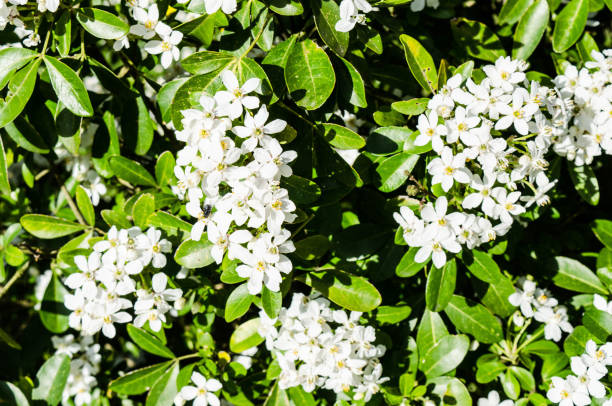flower: (231, 102, 289, 157), (172, 111, 230, 161), (198, 215, 256, 264), (227, 249, 289, 293), (194, 142, 252, 189), (208, 66, 262, 114), (417, 195, 468, 243), (405, 228, 460, 271), (245, 186, 301, 228), (246, 139, 301, 181), (100, 247, 148, 295), (495, 92, 541, 139), (131, 276, 187, 313), (463, 172, 507, 217), (85, 299, 132, 341), (179, 367, 229, 406), (427, 146, 471, 190), (146, 25, 190, 69), (59, 249, 102, 294), (131, 227, 176, 270), (464, 127, 506, 173), (182, 202, 227, 243), (137, 273, 183, 313), (58, 288, 98, 333), (409, 108, 449, 153), (478, 57, 529, 91), (535, 302, 578, 340), (576, 71, 612, 115), (577, 117, 611, 163), (507, 272, 541, 318), (91, 222, 130, 262), (217, 184, 255, 225), (296, 299, 335, 338), (563, 357, 603, 395), (167, 163, 207, 200), (517, 142, 554, 182), (544, 374, 590, 406), (259, 219, 294, 261), (472, 86, 513, 121), (128, 3, 170, 37), (444, 105, 479, 145), (526, 171, 561, 211), (359, 361, 391, 402), (426, 74, 464, 108), (492, 189, 526, 226), (555, 62, 588, 100), (273, 336, 315, 363), (452, 210, 480, 250), (333, 304, 365, 339), (352, 321, 378, 364), (315, 329, 346, 365), (579, 340, 611, 368), (527, 78, 553, 109), (133, 310, 169, 331), (53, 334, 80, 361), (166, 286, 169, 290)
